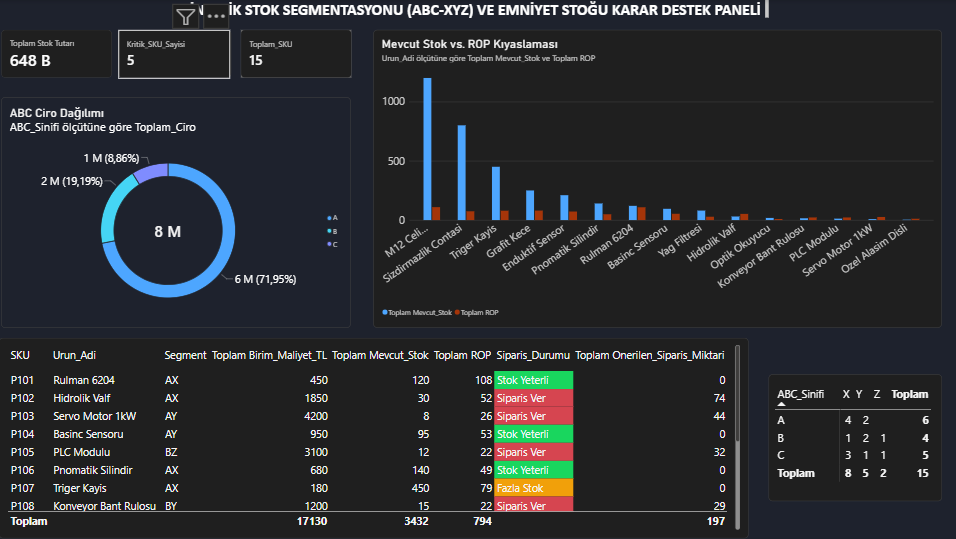

The page's visual inventory and layout, read from the dashboard file:
{"tool":"powerbi","page":{"name":"1. sayfa","canvas":[1920,1080],"ordinal":0},"visuals":[{"type":"textbox","box":[352.9,0,1192,37],"z":0},{"type":"cardVisual","fields":{"Data":["stok_analizi_sonuc csv.Toplam Stok Tutarı"]},"box":[4.9,59.2,222.1,96.3],"z":1000},{"type":"cardVisual","fields":{"Data":["stok_analizi_sonuc csv.Kritik_SKU_Sayisi"]},"box":[238.5,60.2,227.1,96.3],"z":2000},{"type":"cardVisual","fields":{"Data":["stok_analizi_sonuc csv.Toplam_SKU"]},"box":[484.2,60.2,222.1,96.3],"z":3000},{"type":"donutChart","title":"ABC Ciro Dağılımı","fields":{"Category":["stok_analizi_sonuc csv.ABC_Sinifi"],"Y":["Sum(stok_analizi_sonuc csv.Toplam_Ciro)"]},"box":[4.8,195.1,701,462.5],"z":4000},{"type":"pivotTable","fields":{"Columns":["stok_analizi_sonuc csv.XYZ_Sinifi"],"Rows":["stok_analizi_sonuc csv.ABC_Sinifi"],"Values":["CountNonNull(stok_analizi_sonuc csv.SKU)"]},"box":[1543.7,750.8,347.7,254.7],"z":5000},{"type":"clusteredColumnChart","title":"Mevcut Stok vs. ROP Kıyaslaması","fields":{"Category":["stok_analizi_sonuc csv.Urun_Adi"],"Y":["Sum(stok_analizi_sonuc csv.Mevcut_Stok)","Sum(stok_analizi_sonuc csv.ROP)"]},"box":[750.8,59.8,1140.6,598],"z":6000},{"type":"tableEx","fields":{"Values":["stok_analizi_sonuc csv.SKU","stok_analizi_sonuc csv.Urun_Adi","stok_analizi_sonuc csv.Segment","Sum(stok_analizi_sonuc csv.Birim_Maliyet_TL)","Sum(stok_analizi_sonuc csv.Mevcut_Stok)","Sum(stok_analizi_sonuc csv.ROP)","stok_analizi_sonuc csv.Siparis_Durumu","Sum(stok_analizi_sonuc csv.Onerilen_Siparis_Miktari)"]},"box":[0,678.7,1503,402.3],"z":7000}]}

Visuals, with their boxes in screenshot pixels (x1, y1, x2, y2), scaled from the page's 1920x1080 canvas onto the 956x539 screenshot:
textbox: bbox=(176, 0, 769, 18)
cardVisual - stok_analizi_sonuc csv.Toplam Stok Tutarı: bbox=(2, 30, 113, 78)
cardVisual - stok_analizi_sonuc csv.Kritik_SKU_Sayisi: bbox=(119, 30, 232, 78)
cardVisual - stok_analizi_sonuc csv.Toplam_SKU: bbox=(241, 30, 352, 78)
"ABC Ciro Dağılımı" donutChart: bbox=(2, 97, 351, 328)
pivotTable - stok_analizi_sonuc csv.XYZ_Sinifi x stok_analizi_sonuc csv.ABC_Sinifi: bbox=(769, 375, 942, 502)
"Mevcut Stok vs. ROP Kıyaslaması" clusteredColumnChart: bbox=(374, 30, 942, 328)
tableEx - stok_analizi_sonuc csv.SKU x stok_analizi_sonuc csv.Urun_Adi: bbox=(0, 339, 748, 538)
